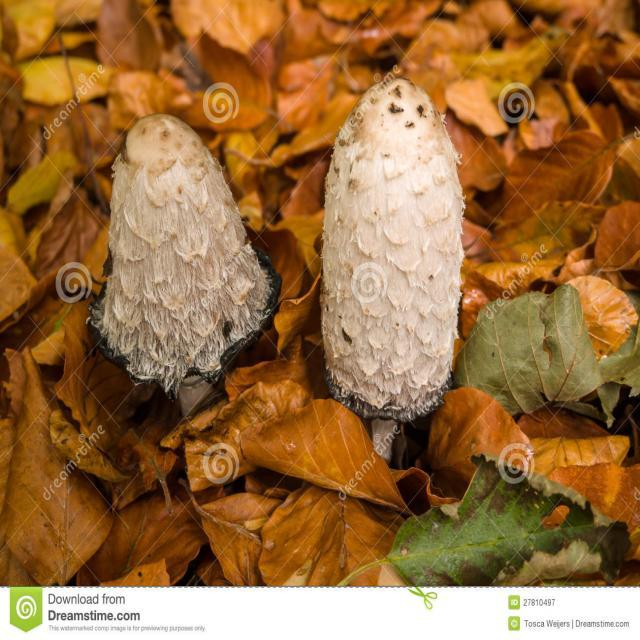Coprinus comatus: (319, 79, 461, 458), (105, 113, 274, 410)
